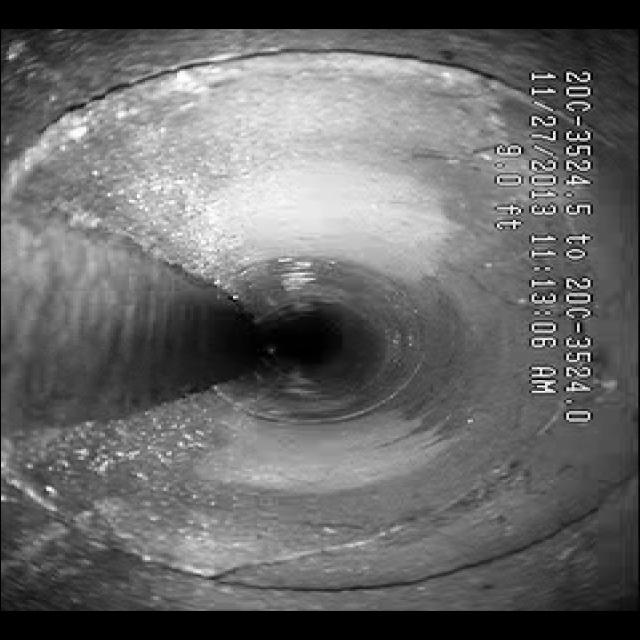Crack: (228, 461, 545, 580)
